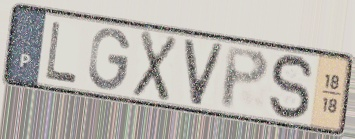G: (86, 26, 133, 92)
L: (44, 19, 80, 85)
P: (219, 44, 272, 113)
S: (267, 52, 316, 123)
V: (182, 37, 227, 108)
X: (130, 28, 181, 105)
